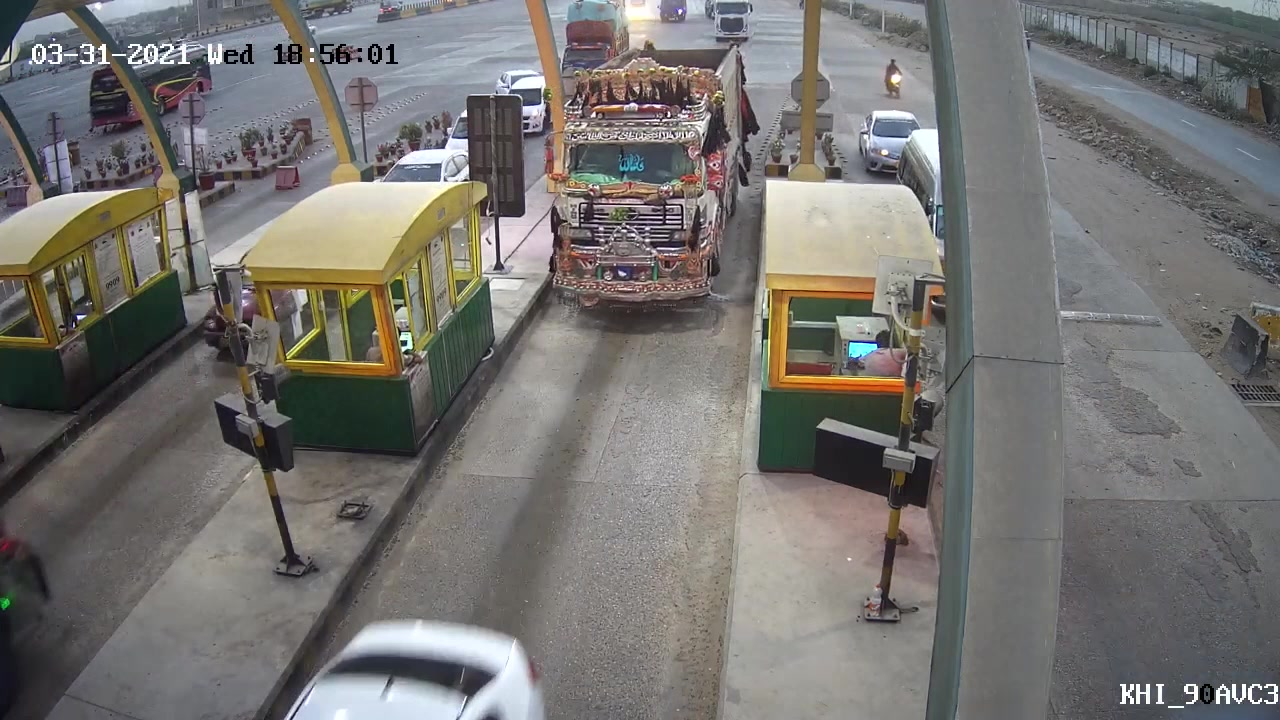F5: (538, 42, 747, 318)
